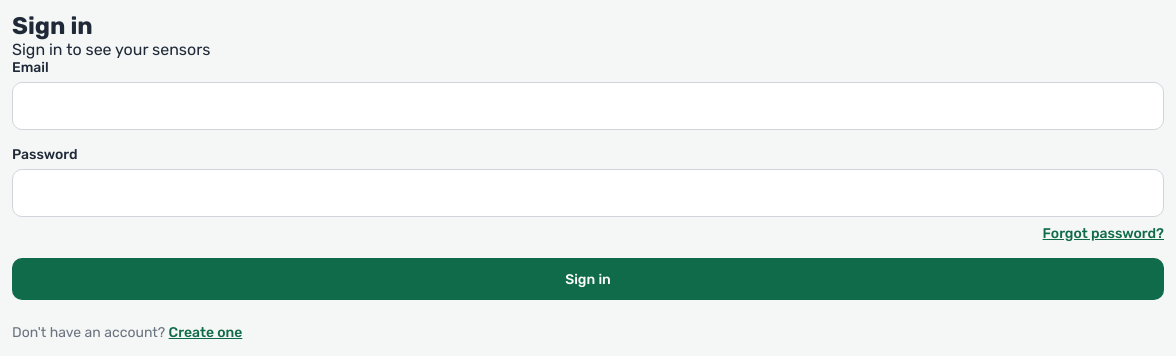
Scenario: Login › an account that was never activated goes to the code step, and Back returns
The image size is (1176, 356).
Type "sara@example.com" into the field labelled "Email" at (588, 106), box [12,82,1164,130]
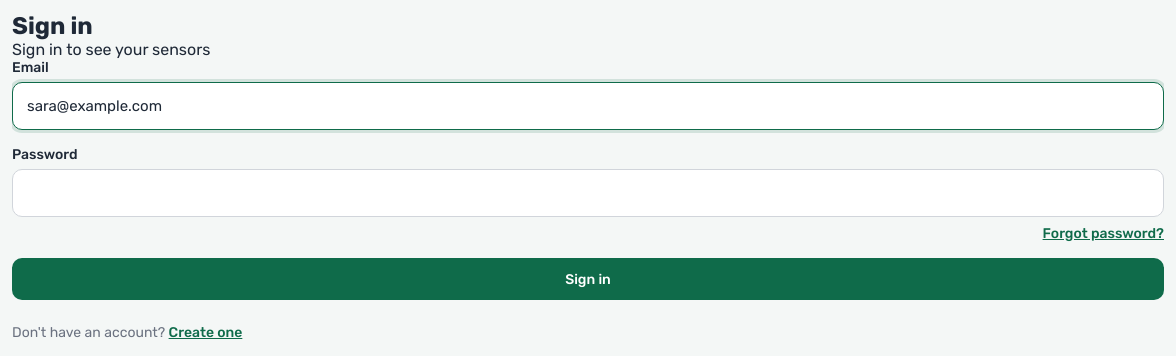
Type "secret123" into the password field labelled "Password" at (588, 193), box [12,169,1164,217]
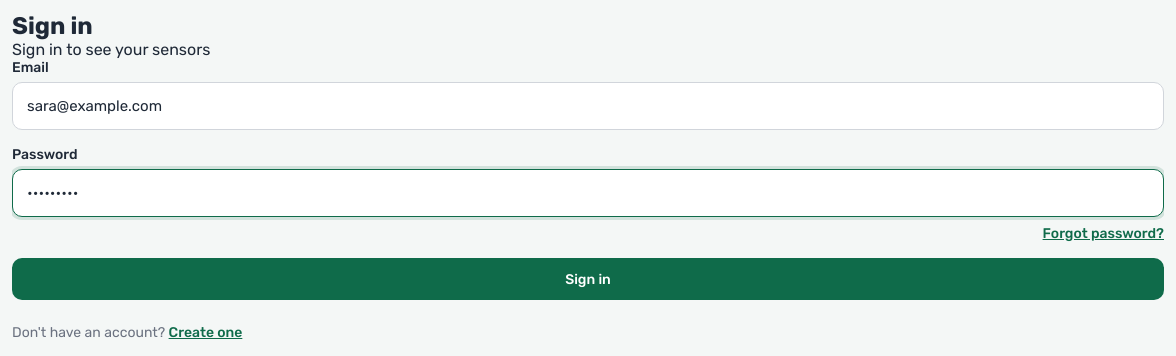
Click the button "Sign in" at (588, 279), box [12,258,1164,300]
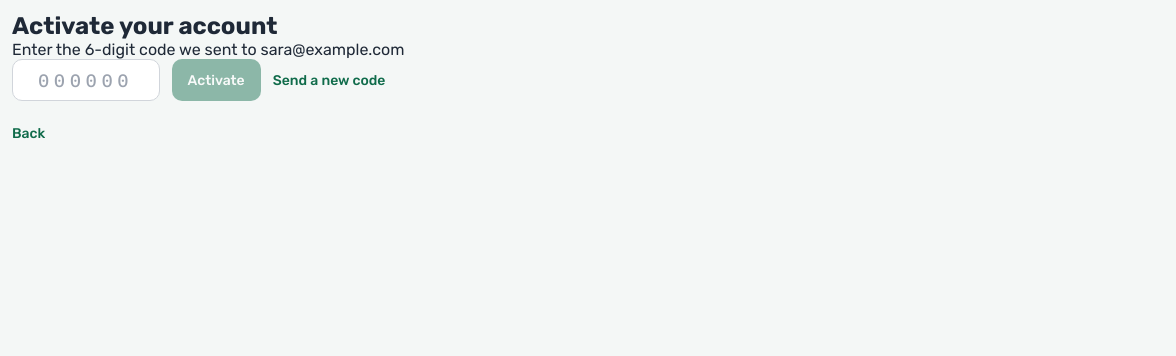
Type "12a3456" into the field with id "activate-code" at (86, 80), box [12,59,160,101]
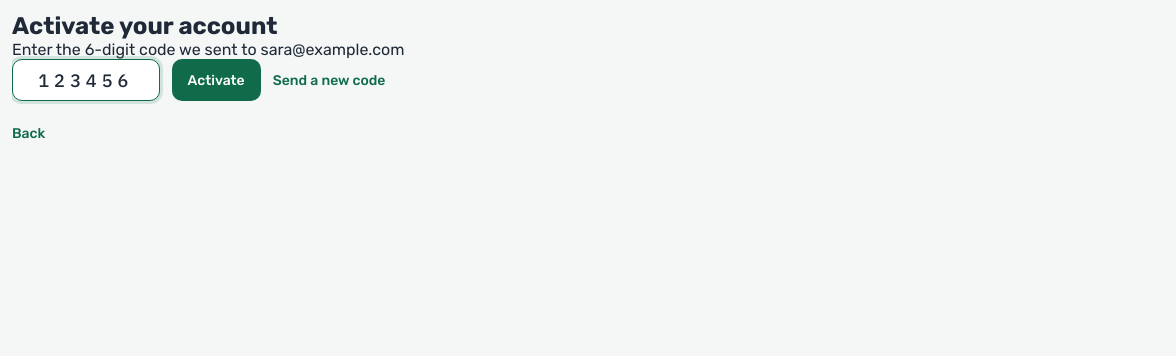
Click the button "Activate" at (216, 80), box [172,59,261,101]
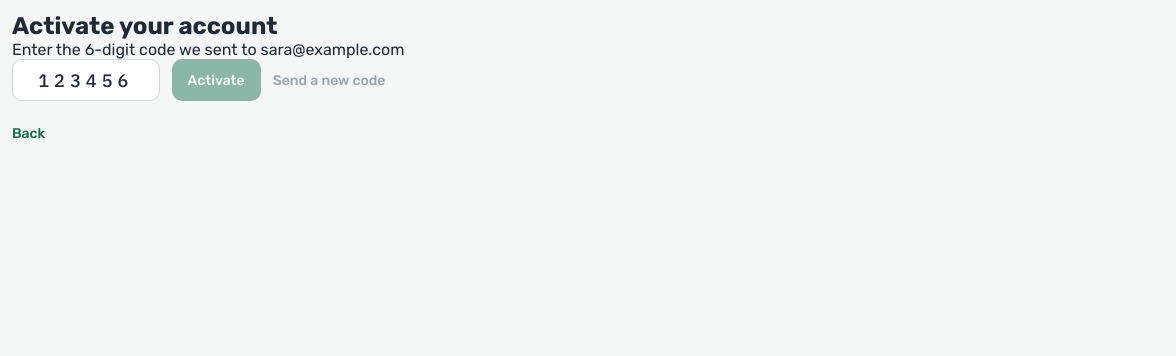
Check: the button "Activate" is disabled, box [172,59,261,101]
Click the button "Back" at (29, 134), box [12,125,45,142]
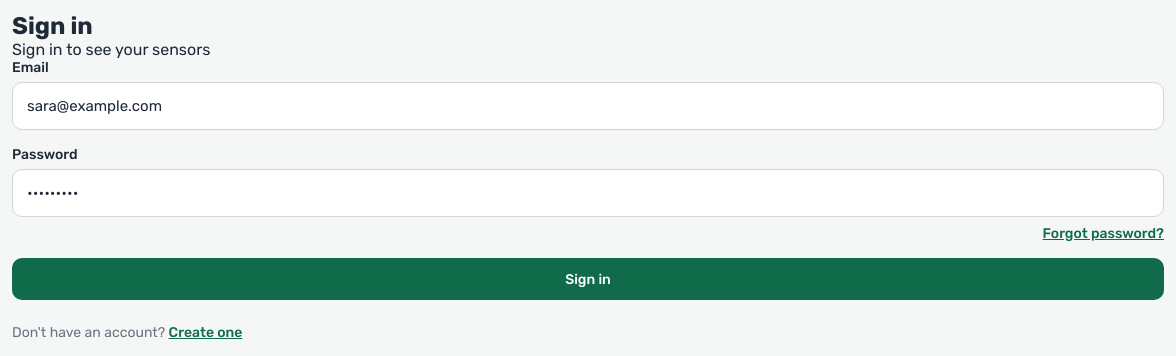
Check: the field labelled "Email" holds "sara@example.com", box [12,82,1164,130]
